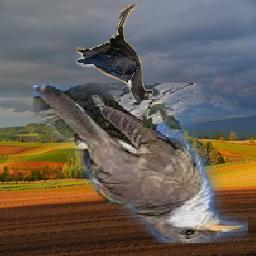Crow: (77, 4, 154, 102)
Cuckoo: (34, 83, 249, 243)
